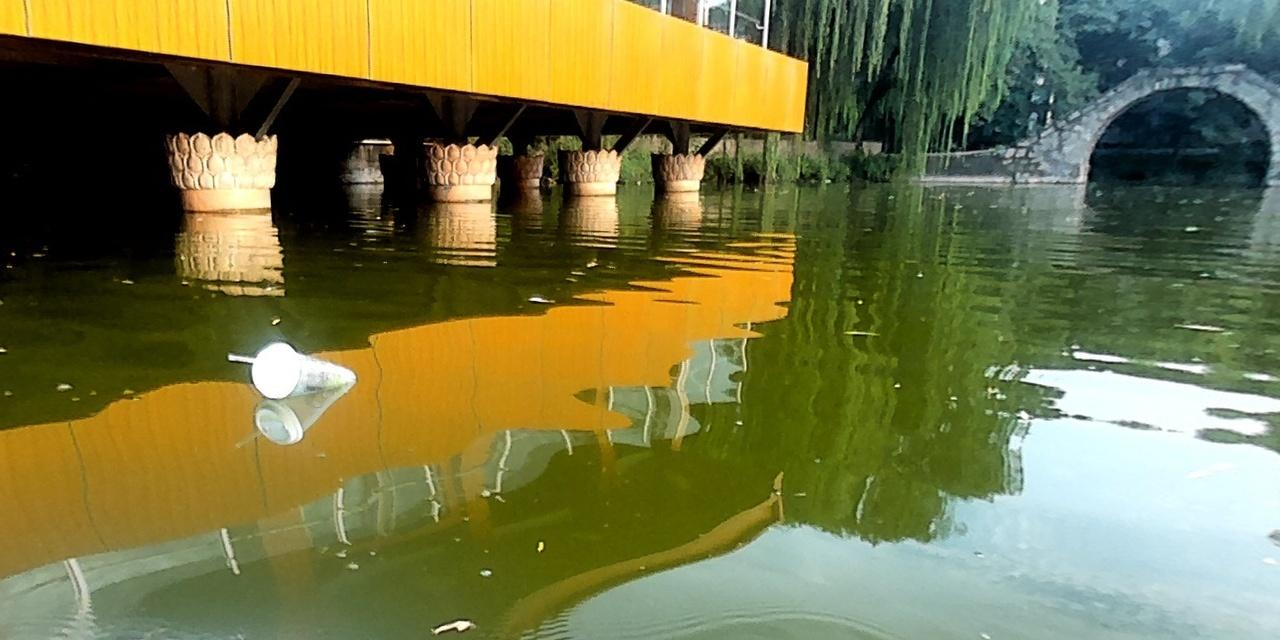bottle: (246, 336, 362, 402)
